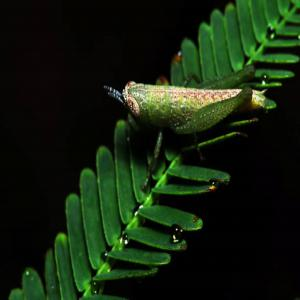locust: (104, 66, 268, 161)
